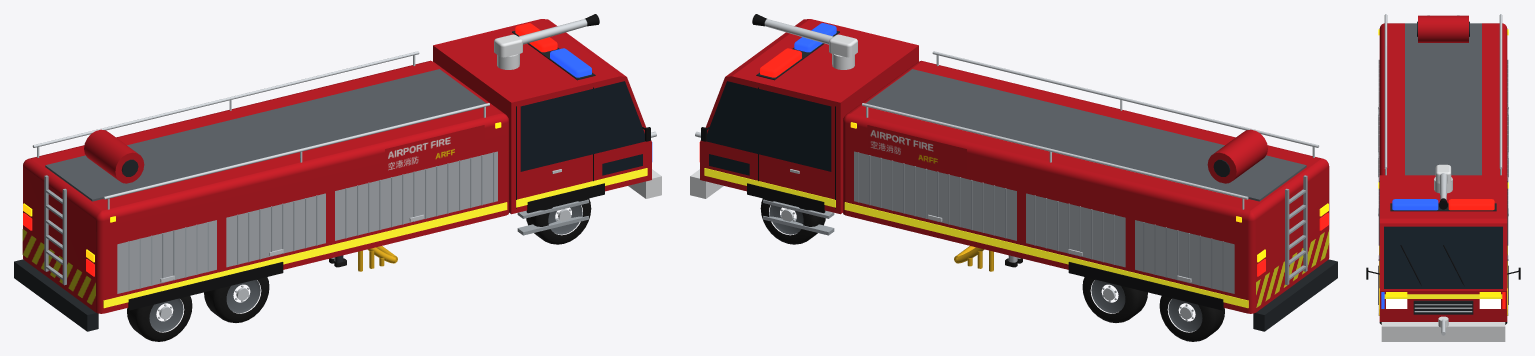
The model's file is arff.glb.
The picture shows the model from 3 angles, left to right: view 1: azimuth 30°, elevation 25°; view 2: azimuth 150°, elevation 25°; view 3: azimuth 270°, elevation 25°; orthographic projection. The views are drawn at different scales.
Parts seen in each view (by area): view 1: ARFF_Body, ARFF_W_2R, ARFF_W_1R, ARFF_Monitor, ARFF_W_0R, ARFF_LampBlue, EvacSlide_Mesh, ARFF_LampRed; view 2: ARFF_Body, ARFF_W_2L, ARFF_W_1L, ARFF_Monitor, ARFF_W_0L, ARFF_LampRed, EvacSlide_Mesh, ARFF_LampBlue; view 3: ARFF_Body, ARFF_Monitor, ARFF_LampBlue, ARFF_LampRed, ARFF_LightBase, ARFF_Bumper.
Part boxes in pixels (x1,y1,x2,y2): ARFF_Body: [14, 19, 661, 331]; ARFF_W_2R: [127, 296, 192, 341]; ARFF_W_1R: [204, 277, 269, 322]; ARFF_Monitor: [494, 14, 599, 69]; ARFF_W_0R: [526, 198, 591, 244]; ARFF_LampBlue: [550, 48, 591, 77]; EvacSlide_Mesh: [358, 246, 397, 271]; ARFF_LampRed: [515, 23, 557, 52]; ARFF_Body: [690, 19, 1337, 331]; ARFF_W_2L: [1159, 296, 1224, 341]; ARFF_W_1L: [1082, 277, 1147, 322]; ARFF_Monitor: [752, 14, 857, 69]; ARFF_W_0L: [760, 198, 825, 244]; ARFF_LampRed: [760, 48, 801, 77]; EvacSlide_Mesh: [954, 246, 993, 271]; ARFF_LampBlue: [794, 23, 836, 52]; ARFF_Body: [1366, 14, 1520, 341]; ARFF_Monitor: [1434, 164, 1452, 209]; ARFF_LampBlue: [1392, 199, 1438, 210]; ARFF_LampRed: [1448, 199, 1494, 210]; ARFF_LightBase: [1390, 203, 1496, 211]; ARFF_Bumper: [1438, 316, 1448, 335].
Bounding box in the file's own units: 13.35 × 3.94 × 3.62.
Materials: 32 (2 with a texture image).
